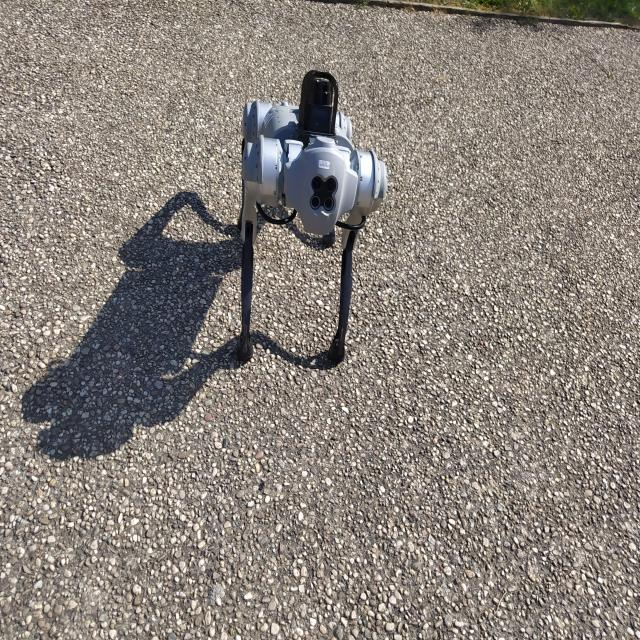unitree-go1-robot: (228, 57, 398, 383)
